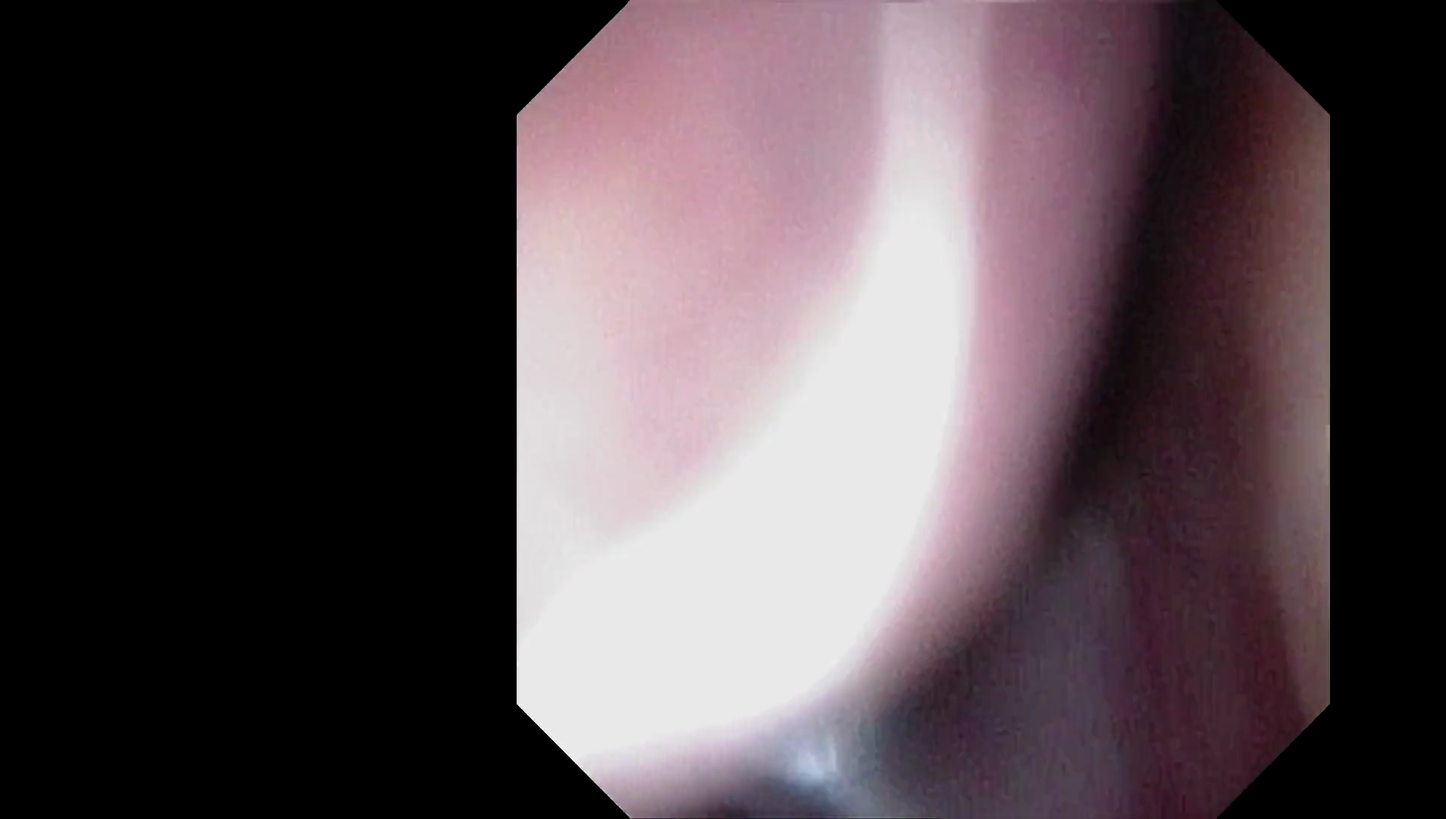close_wall: (571, 77, 1127, 753)
next: (833, 519, 1092, 800), (995, 270, 1206, 571), (1093, 41, 1248, 327)
